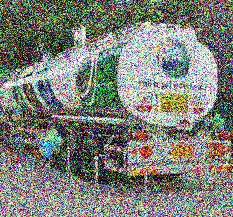truck: (0, 20, 233, 181)
